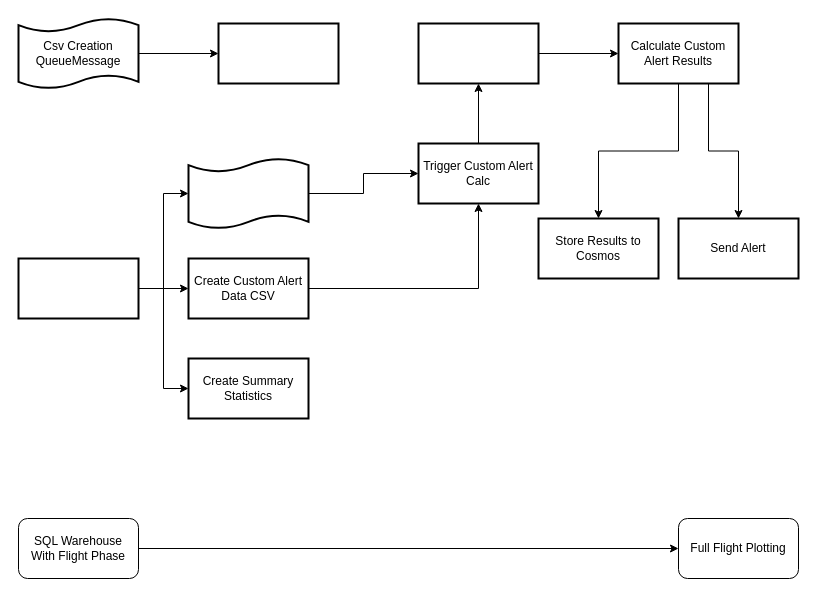
This 816x596 diagram has some shape labels left out. Each missing label, with the box of its shape:
Calculate Custom Alert Queue Message: (187, 157, 309, 229)
DS Pipeline: (17, 257, 139, 319)
Pull Data Series Into Memory: (417, 22, 539, 84)
Store Data in SQL: (217, 22, 339, 84)
